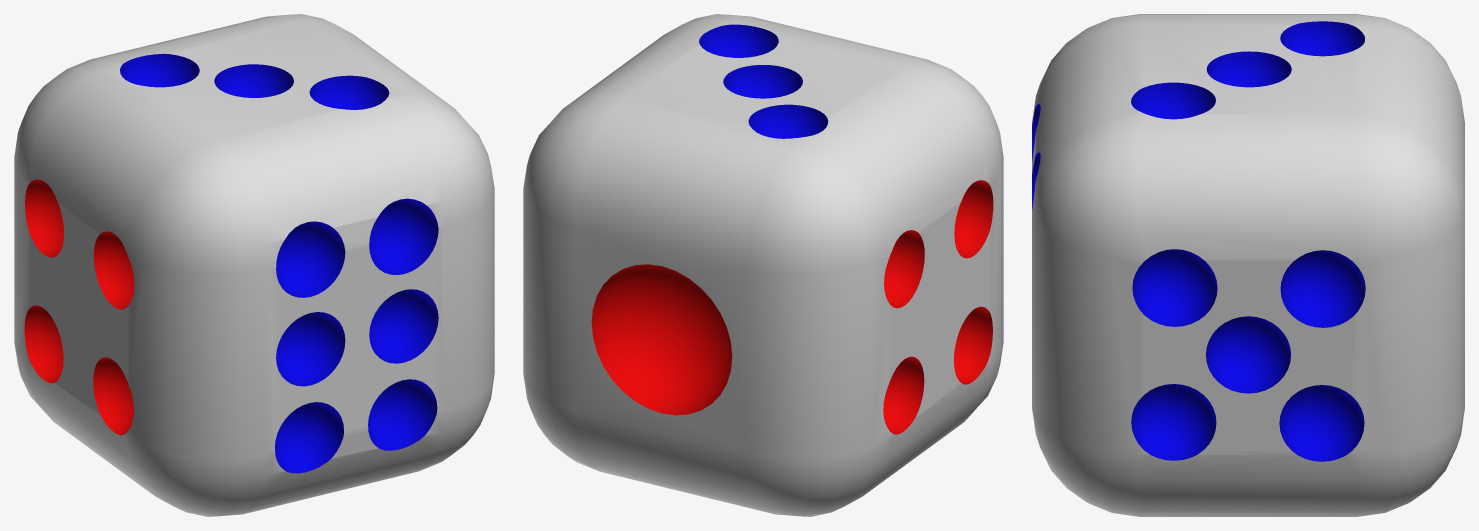
3 views of the same model, side by side, from view 1: azimuth 30°, elevation 25°; view 2: azimuth 150°, elevation 25°; view 3: azimuth 270°, elevation 25° (orthographic). The views are drawn at different scales.
Parts seen in each view (by area): view 1: Cube.005; view 2: Cube.005; view 3: Cube.005.
Boxes of the visible parts, bbox=[...] form: Cube.005: bbox=[14, 14, 494, 516]; Cube.005: bbox=[523, 14, 1003, 516]; Cube.005: bbox=[1032, 14, 1464, 516].
Size of the model in its own units: 2 by 2 by 2.
